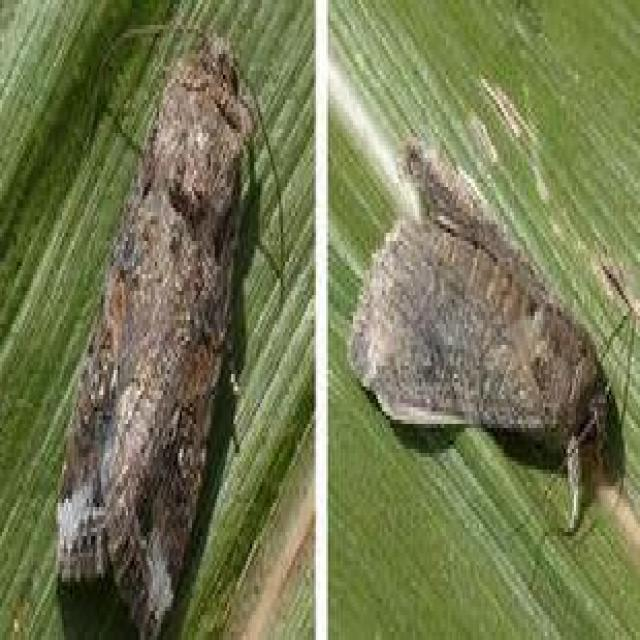BeetArmyWorm-Adult-: (50, 15, 289, 632), (343, 126, 624, 544)
